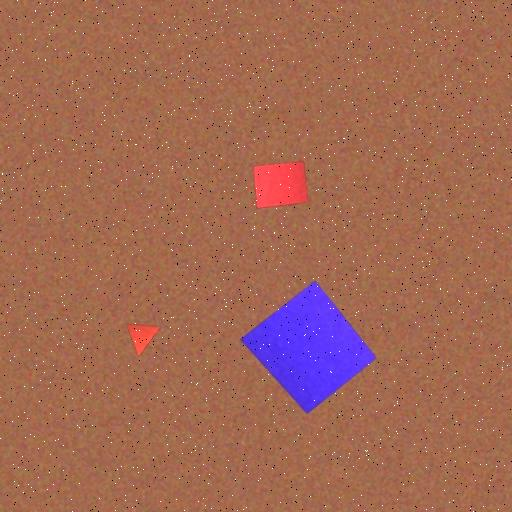BLUE_SQUARE: (239, 280, 377, 415)
RED_SQUARE: (252, 161, 310, 209)
